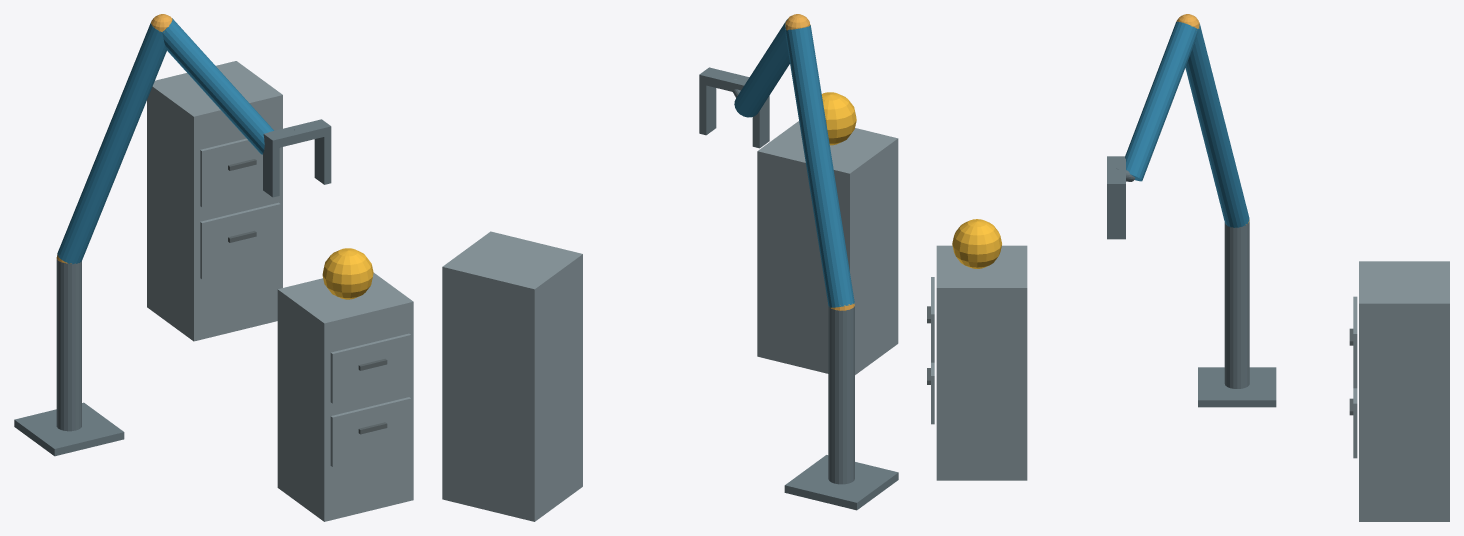
The picture shows the model from 3 angles, left to right: view 1: azimuth 30°, elevation 25°; view 2: azimuth 150°, elevation 25°; view 3: azimuth 270°, elevation 25°; orthographic projection. The views are drawn at different scales.
Visible parts, largest first — view 1: cabinet_2 body, cabinet_1 body, moving link 1, cabinet_2 drawer front, fixed post, cabinet_1 drawer front.001, cabinet_1 drawer front, moving link 2, cabinet_2 drawer front.001, pedestal, ball ball_1, gripper bridge (+2 smaller); view 2: cabinet_2 body, cabinet_1 body, moving link 1, fixed post, pedestal, moving link 2, ball ball_1, gripper finger 1, gripper bridge, gripper finger -1; view 3: cabinet_2 body, cabinet_1 body, moving link 1, fixed post, moving link 2, pedestal, ball ball_1, gripper finger 1, gripper bridge.
Part boxes in pixels (x1,y1,x2,y2): cabinet_2 body: (147,61,282,341); cabinet_1 body: (277,273,413,521); moving link 1: (57,22,166,264); cabinet_2 drawer front: (200,202,280,279); fixed post: (56,259,81,431); cabinet_1 drawer front.001: (330,333,411,403); cabinet_1 drawer front: (330,397,411,466); moving link 2: (162,18,273,154); cabinet_2 drawer front.001: (200,138,280,207); pedestal: (14,402,124,456); ball ball_1: (322,248,373,299); gripper bridge: (263,119,331,149); cabinet_2 body: (442,231,582,521); cabinet_1 body: (757,121,898,374); moving link 1: (785,25,854,307); fixed post: (828,304,854,484); pedestal: (784,455,898,510); moving link 2: (734,19,789,117); ball ball_1: (821,92,856,145); gripper finger 1: (699,84,716,135); gripper bridge: (699,67,749,91); gripper finger -1: (752,96,769,148); cabinet_2 body: (1359,261,1449,521); cabinet_1 body: (936,245,1027,480); moving link 1: (1185,24,1249,227); fixed post: (1224,221,1249,388); moving link 2: (1125,21,1197,181); pedestal: (1198,367,1276,407); ball ball_1: (952,219,1001,268); gripper finger 1: (1107,192,1125,239); gripper bridge: (1107,156,1125,192).
Bounding box in the file's own units: 1.12 × 1.44 × 1.67.
